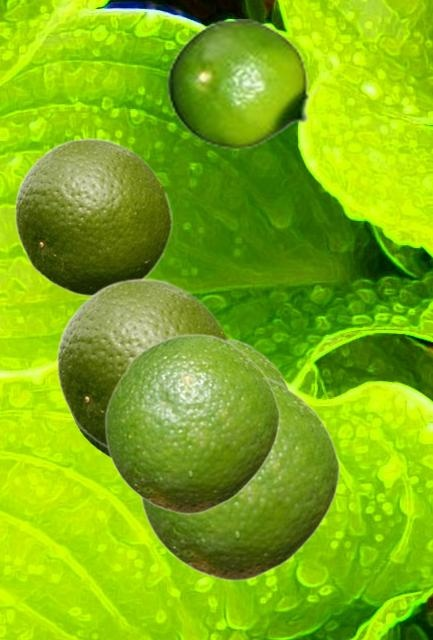calamansi: (138, 373, 339, 581), (104, 333, 279, 514), (56, 276, 230, 448), (14, 136, 172, 296), (166, 19, 324, 149), (230, 338, 289, 387)
